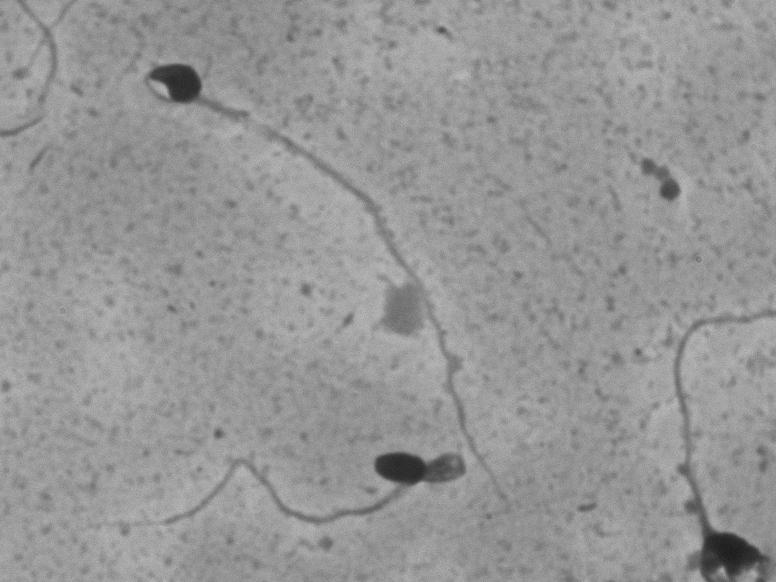Abnormal: (131, 46, 527, 520), (86, 424, 480, 545)
